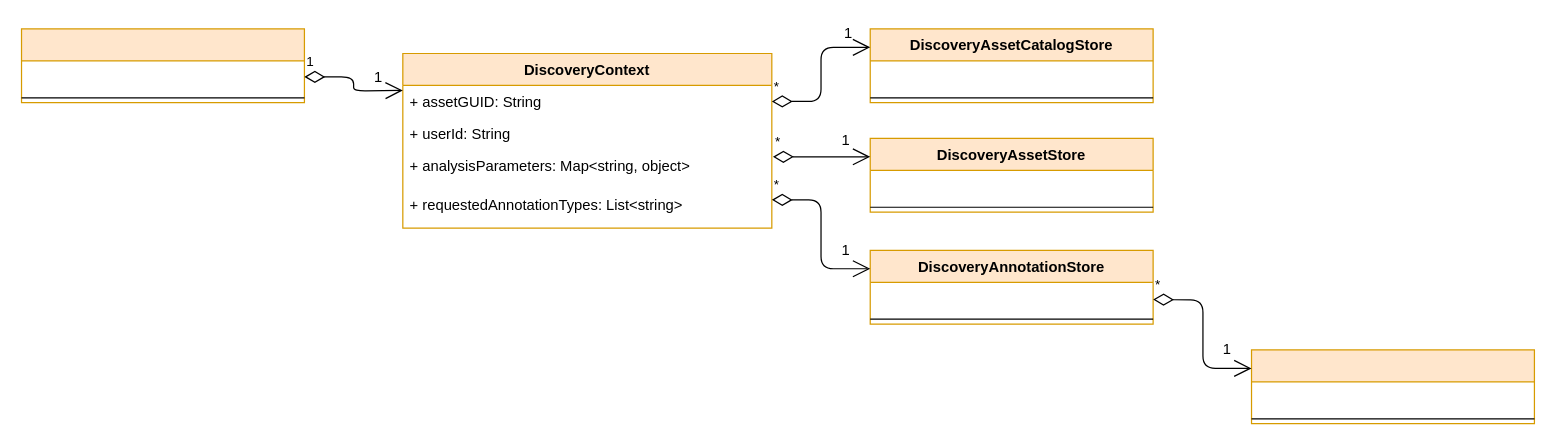
The diagram is 1556 pixels wide and 445 high, and some of its shapes have lost their labels. Each missing label, with the centre of its shape:
"DiscoveryAnalysisReport" belongs at point (1392, 386).
"DiscoveryService" belongs at point (162, 65).
